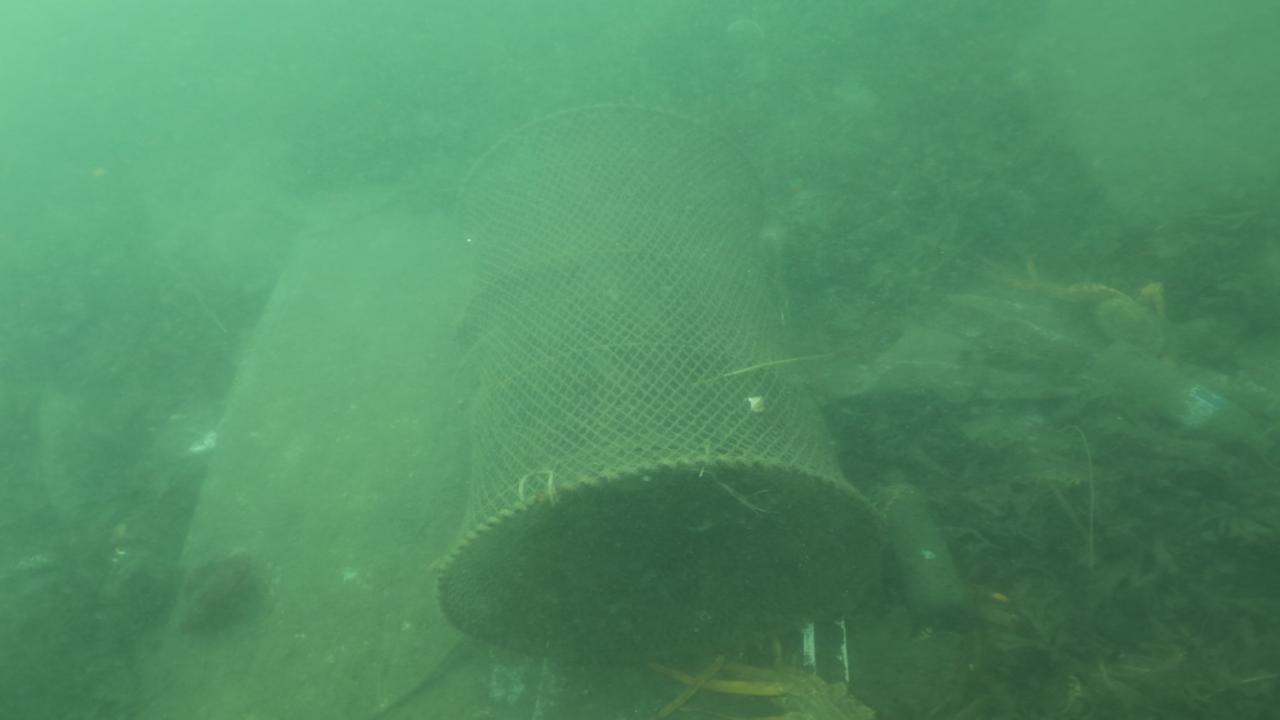spring fish trap: (428, 100, 879, 668)
